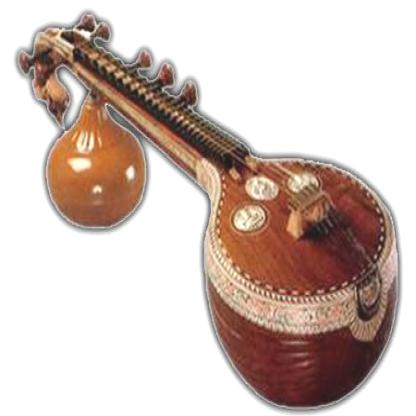Veena: (119, 69, 400, 416)
